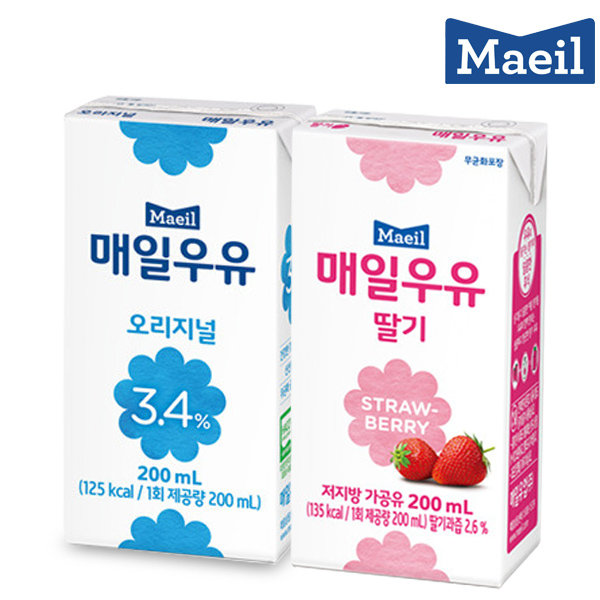milk: (61, 93, 542, 590)
